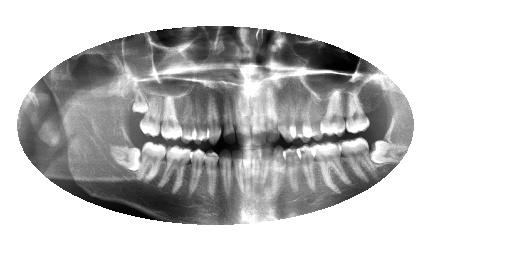Cavity: (221, 90, 236, 145), (233, 148, 244, 193)
Fillings: (313, 141, 353, 190), (340, 139, 380, 185), (160, 144, 193, 195), (137, 140, 168, 184), (161, 97, 183, 142)
Impacted Tooth: (103, 143, 142, 170), (371, 139, 410, 165)
